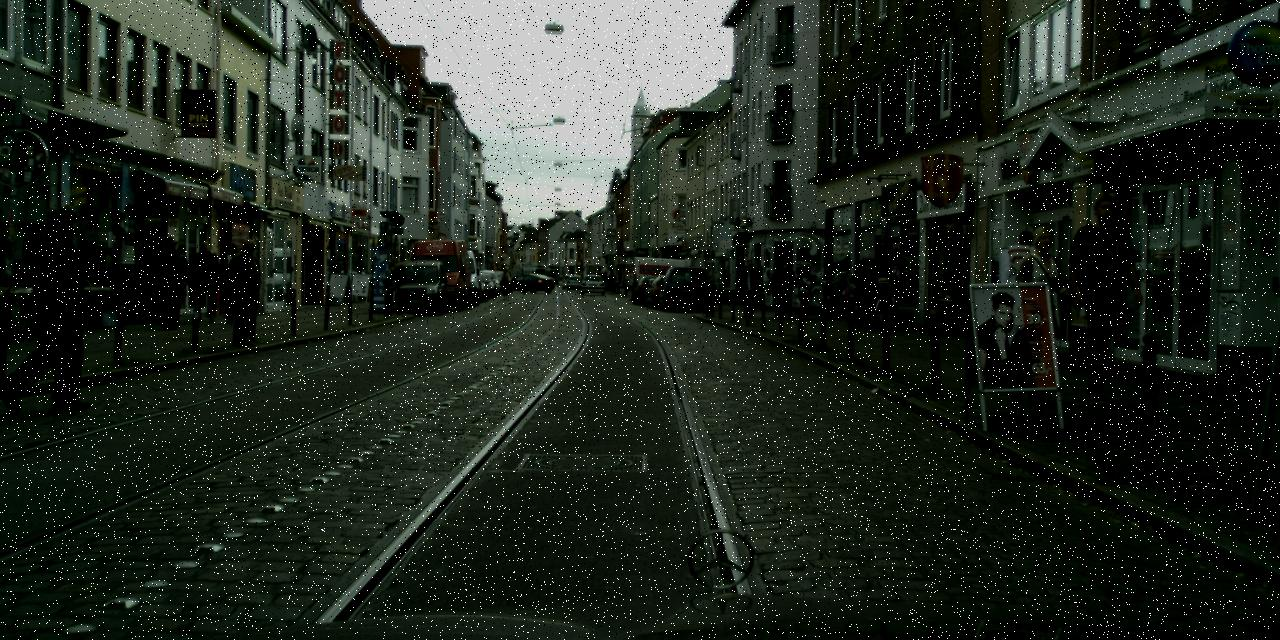ped: (1058, 192, 1144, 404), (10, 206, 92, 409), (1008, 226, 1078, 394), (1000, 231, 1050, 350), (224, 241, 267, 346), (152, 237, 190, 329), (187, 239, 220, 322), (216, 243, 249, 324), (850, 258, 879, 328), (737, 260, 760, 318), (775, 261, 797, 317), (794, 263, 816, 318), (768, 265, 788, 317), (498, 267, 509, 294), (501, 266, 510, 290)
